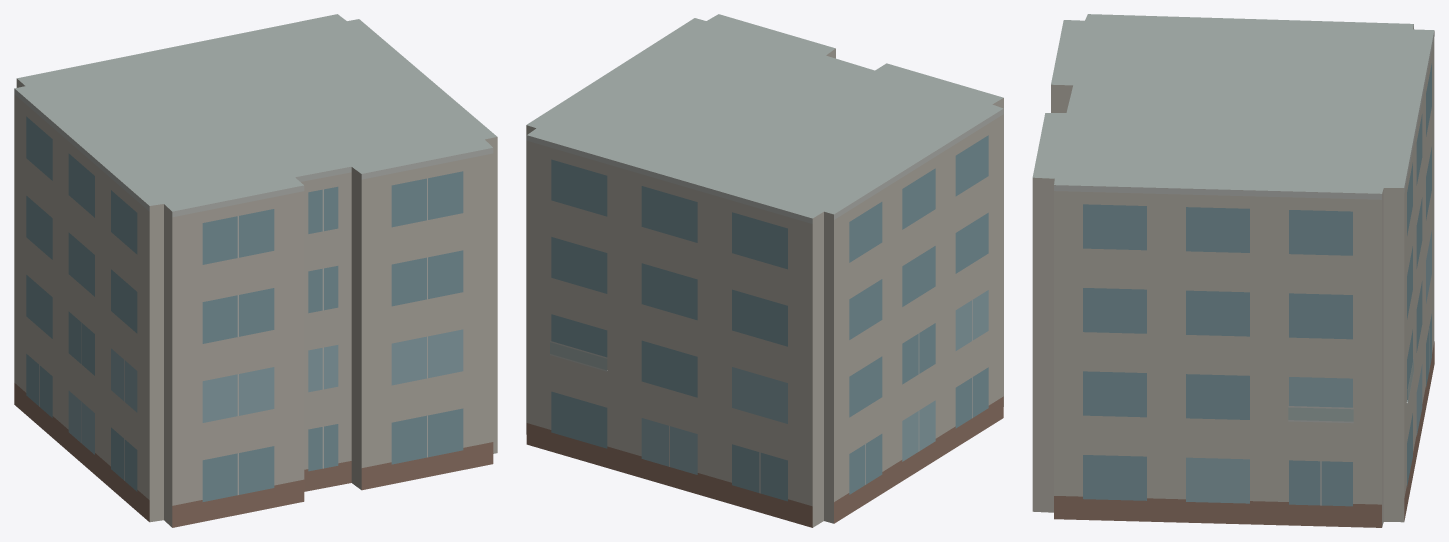
File: survey-upis-32856481.glb
3 renders of one model, left to right at view 1: azimuth 30°, elevation 25°; view 2: azimuth 150°, elevation 25°; view 3: azimuth 270°, elevation 25°, orthographic. The views are drawn at different scales.
Parts seen in each view (by area): view 1: survey-upis-32856481.tmp; view 2: survey-upis-32856481.tmp; view 3: survey-upis-32856481.tmp.
Boxes of the visible parts, bbox=[...] form: survey-upis-32856481.tmp: bbox=[14, 14, 497, 527]; survey-upis-32856481.tmp: bbox=[526, 14, 1003, 527]; survey-upis-32856481.tmp: bbox=[1032, 14, 1434, 527].
Bounding box in the file's own units: 15.6 × 13.5 × 14.73.
